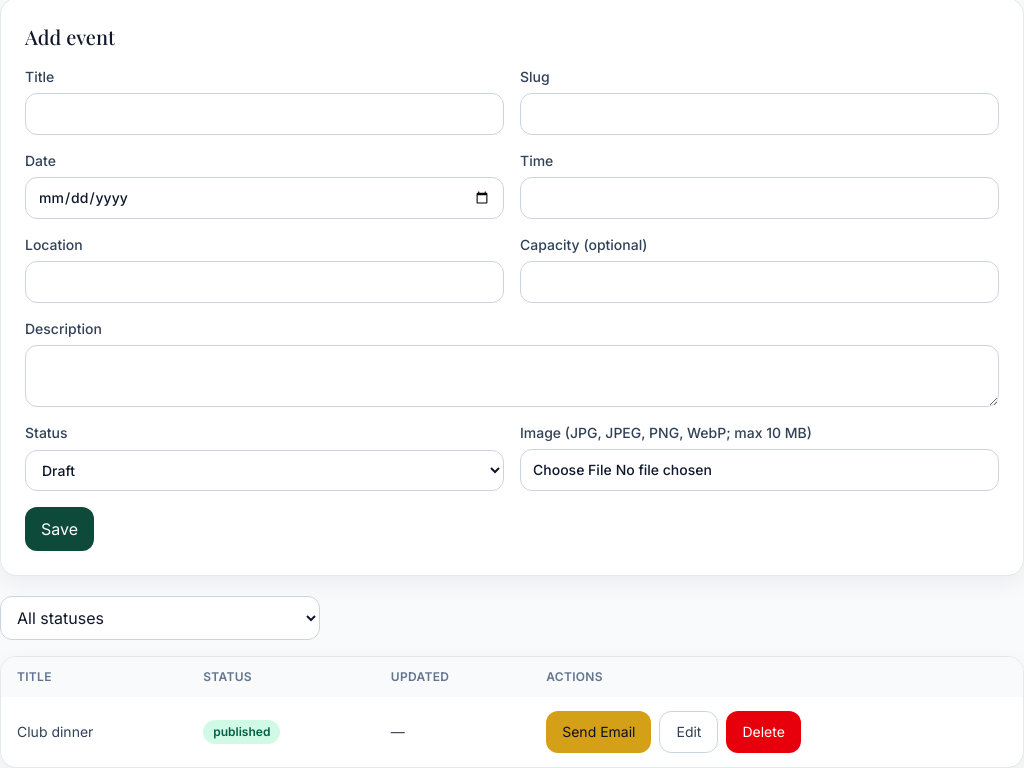
Scenario: all operations routes render API records and visible errors › preserves member selections across picker pages and searches, and clears them
(page scrolled)
Step 1. Click the button "Send Email" → (599, 732), box [546,711,652,753]
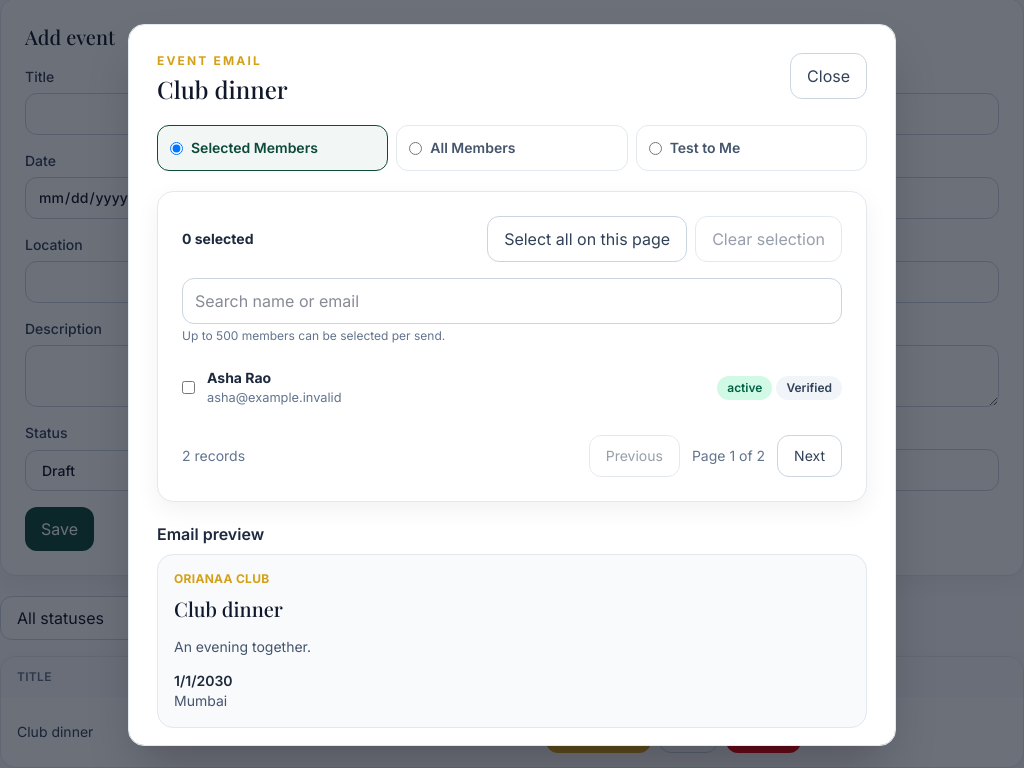
Step 2. Click the checkbox → (188, 388), box [182,381,195,394]
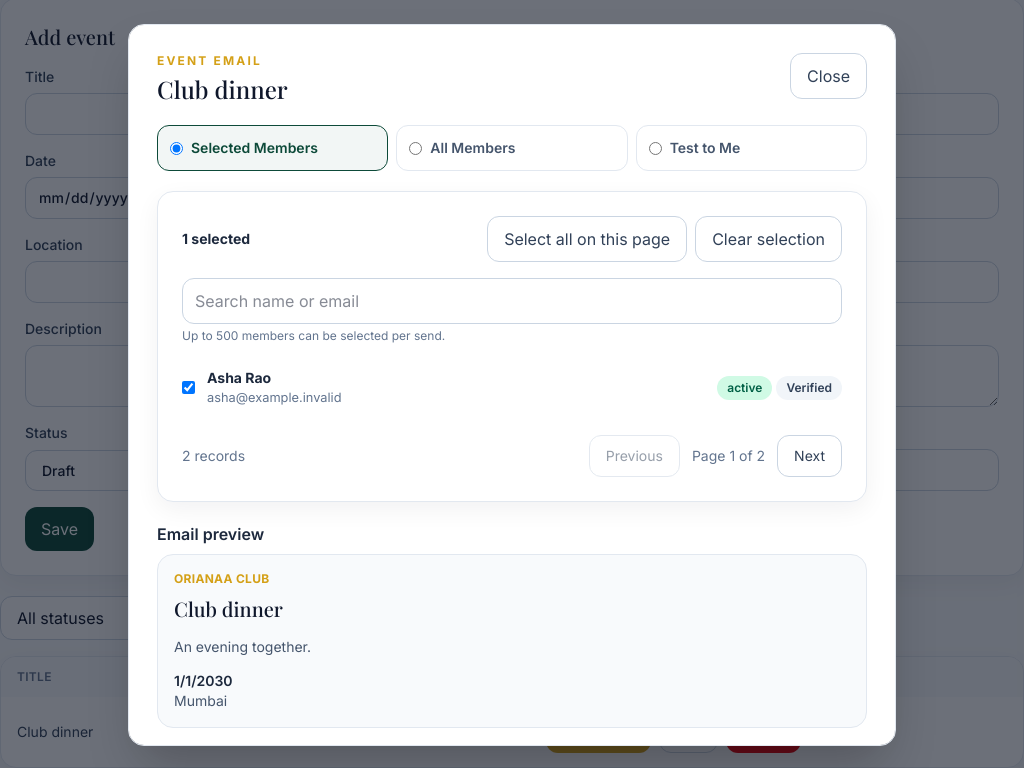
Step 3. Click the button "Next" → (810, 456), box [777,435,842,477]
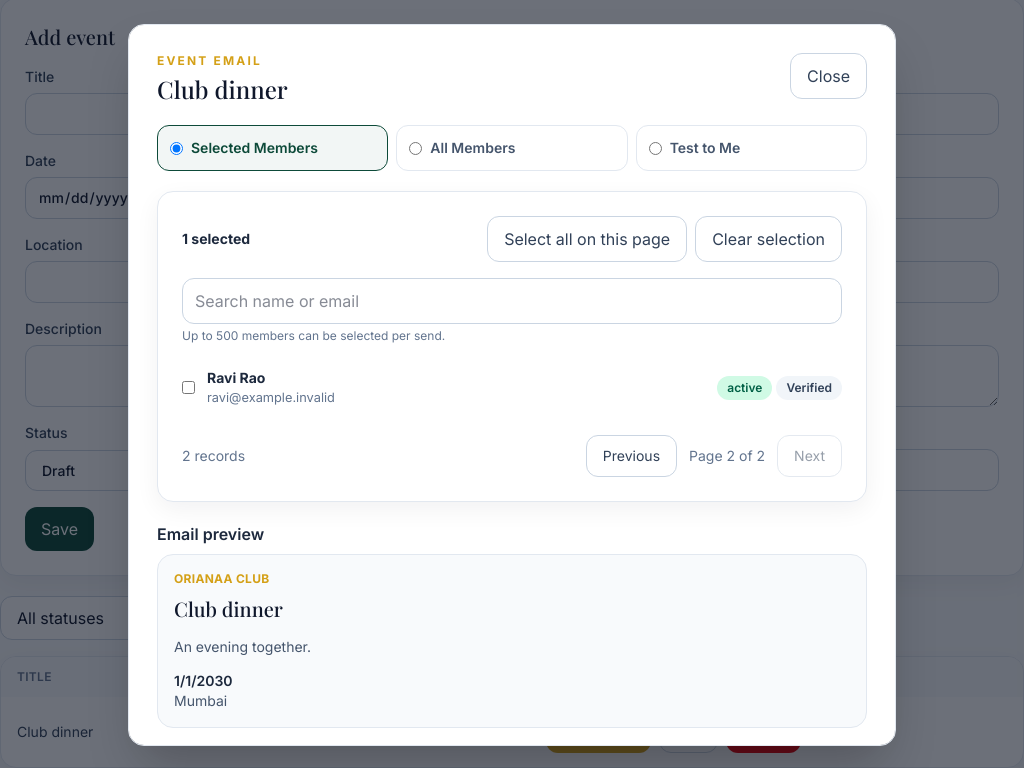
Expected: the text "Ravi Rao" is shown, [207,369,265,386]
Step 4. Click the checkbox → (188, 388), box [182,381,195,394]
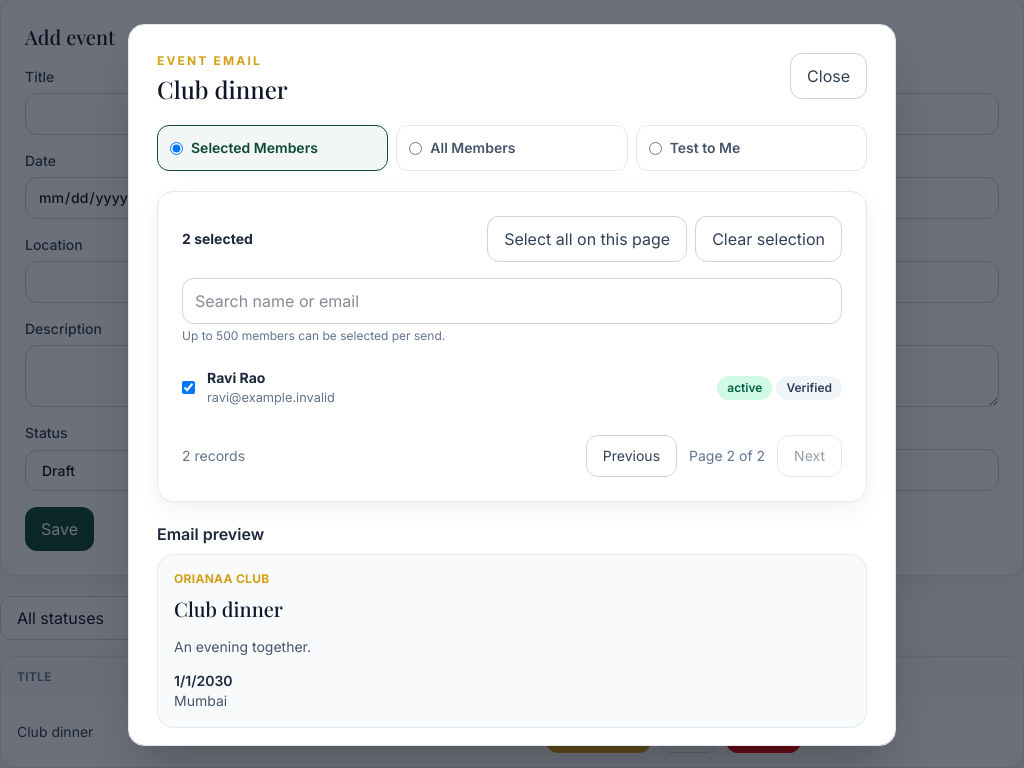
Step 5. Type "Mira" into the field named "Search members" → (512, 301), box [182,278,842,324]
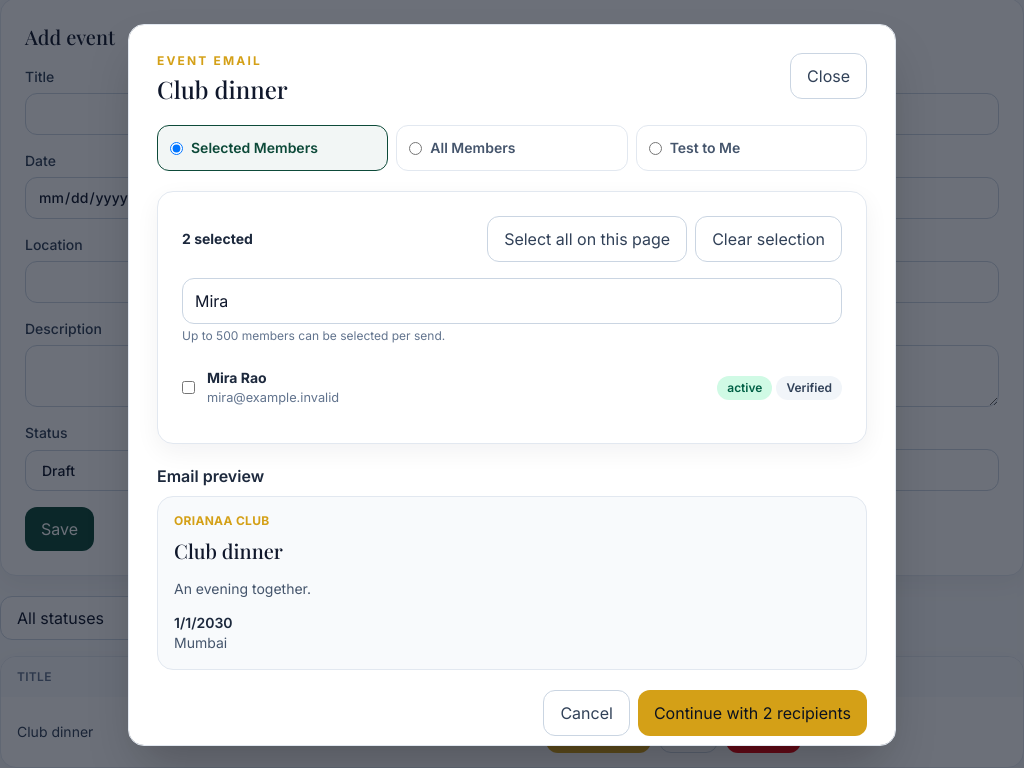
Expected: the text "2 selected" is shown, [182,229,253,249]
Expected: the text "Mira Rao" is shown, [207,369,267,386]
Step 6. Click the button "Clear selection" → (769, 239), box [695,216,842,262]
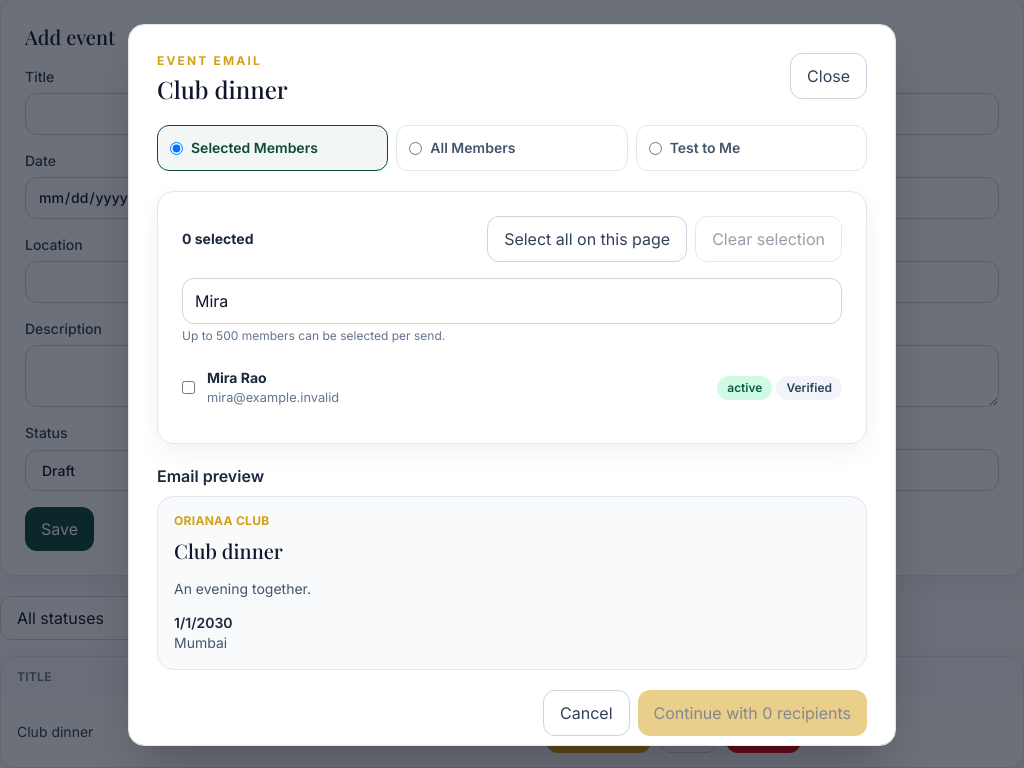
Expected: the text "0 selected" is shown, [182,229,254,249]
